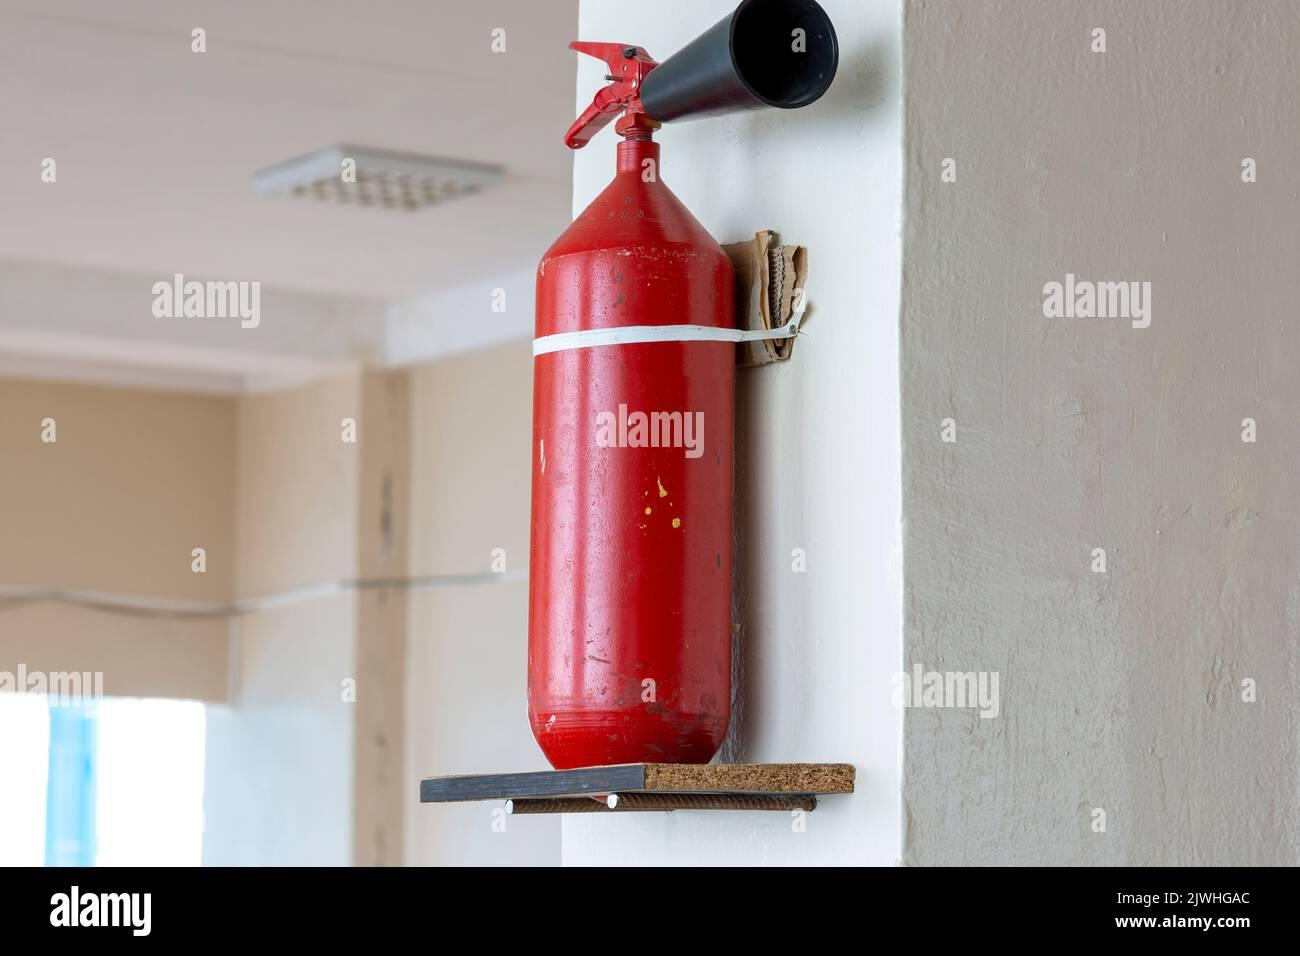wall-mounted: (484, 3, 893, 768)
